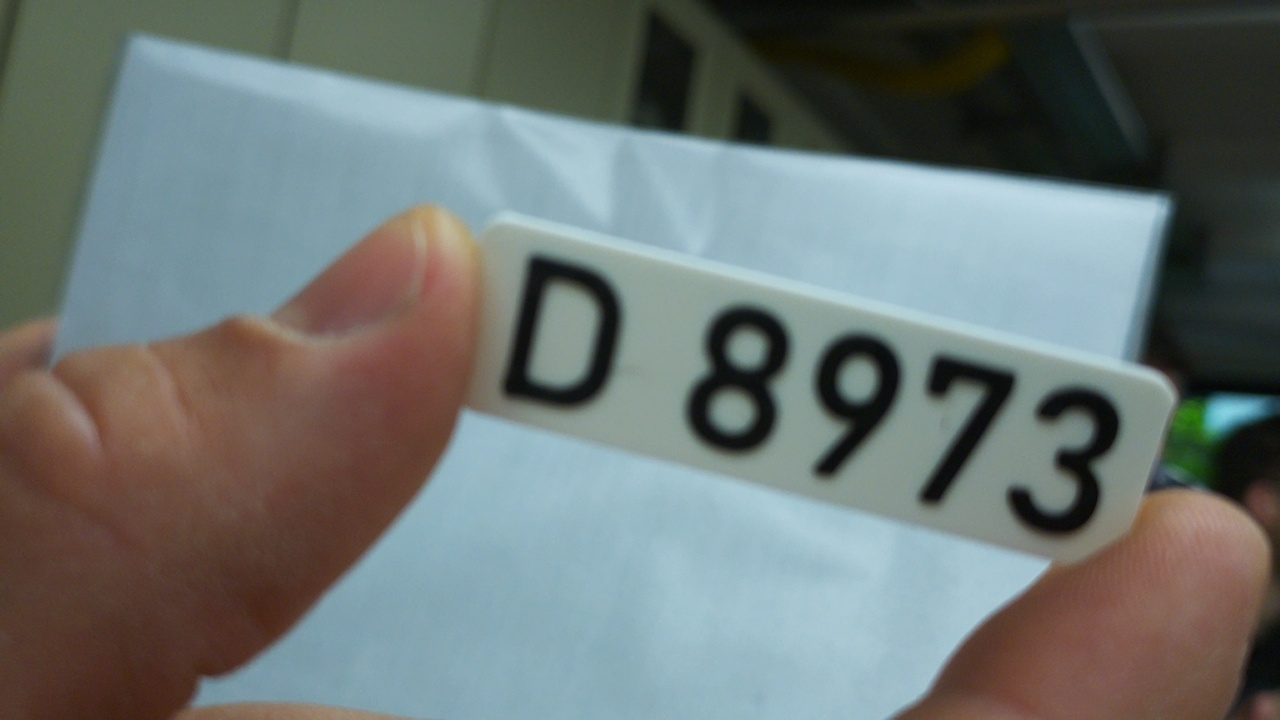license_plate: (450, 207, 1180, 571)
